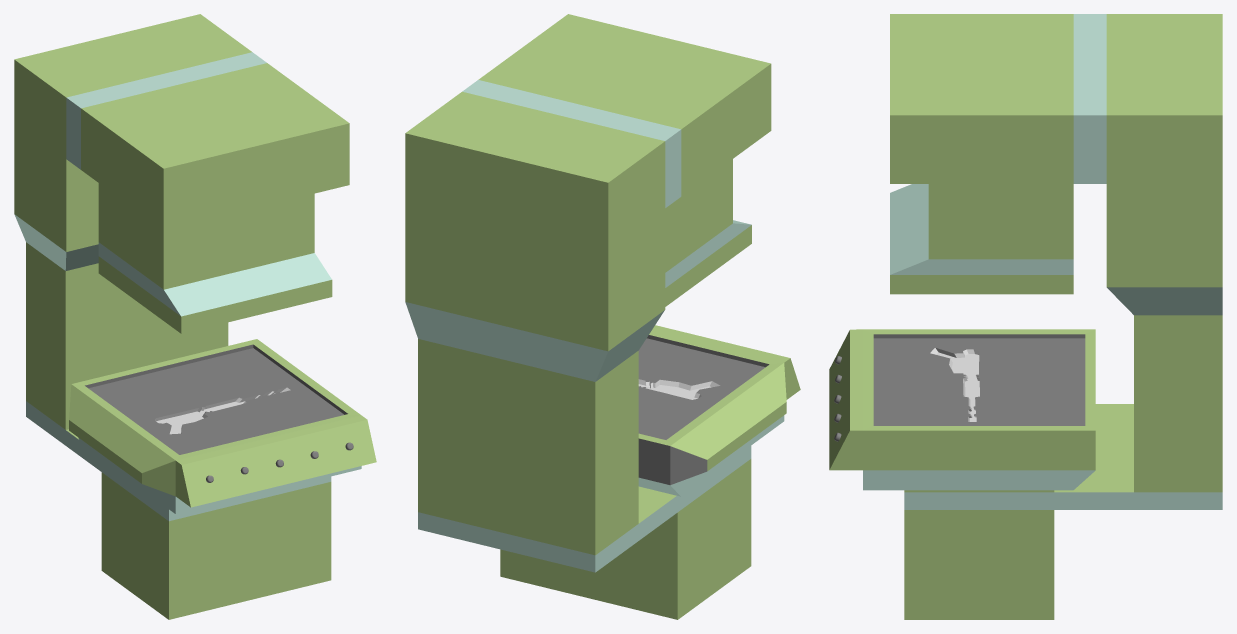
The picture shows the model from 3 angles, left to right: view 1: azimuth 30°, elevation 25°; view 2: azimuth 150°, elevation 25°; view 3: azimuth 270°, elevation 25°; orthographic projection. The views are drawn at different scales.
Visible parts, largest first — view 1: Plane.025; view 2: Plane.025; view 3: Plane.025.
Boxes of the visible parts, x1,y1,x2,y2 form: Plane.025: [14, 14, 376, 619]; Plane.025: [405, 14, 800, 619]; Plane.025: [829, 14, 1222, 619].
Bounding box in the file's own units: 46.62 × 100 × 69.86.
